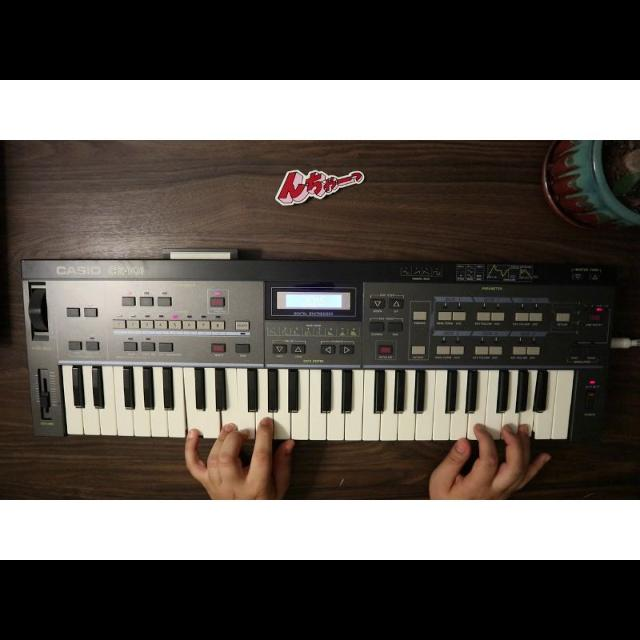Electronic-Keyboard: (15, 250, 612, 450)
